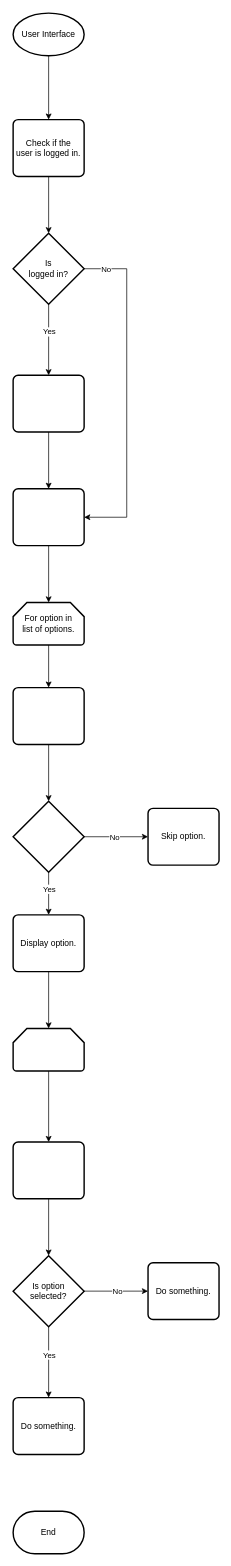
Image size: 231x1566. Some labels were removed from this diagram. The centre of each missing label's shape, as x and y in pixels:
Check if a certain condition is met.: [48,716]
Display "You are logged in as <username>": [48,403]
Grab and display list of options.: [48,517]
Has condition been met?: [48,836]
Prompt the user to choose an option from the list.: [48,1170]
